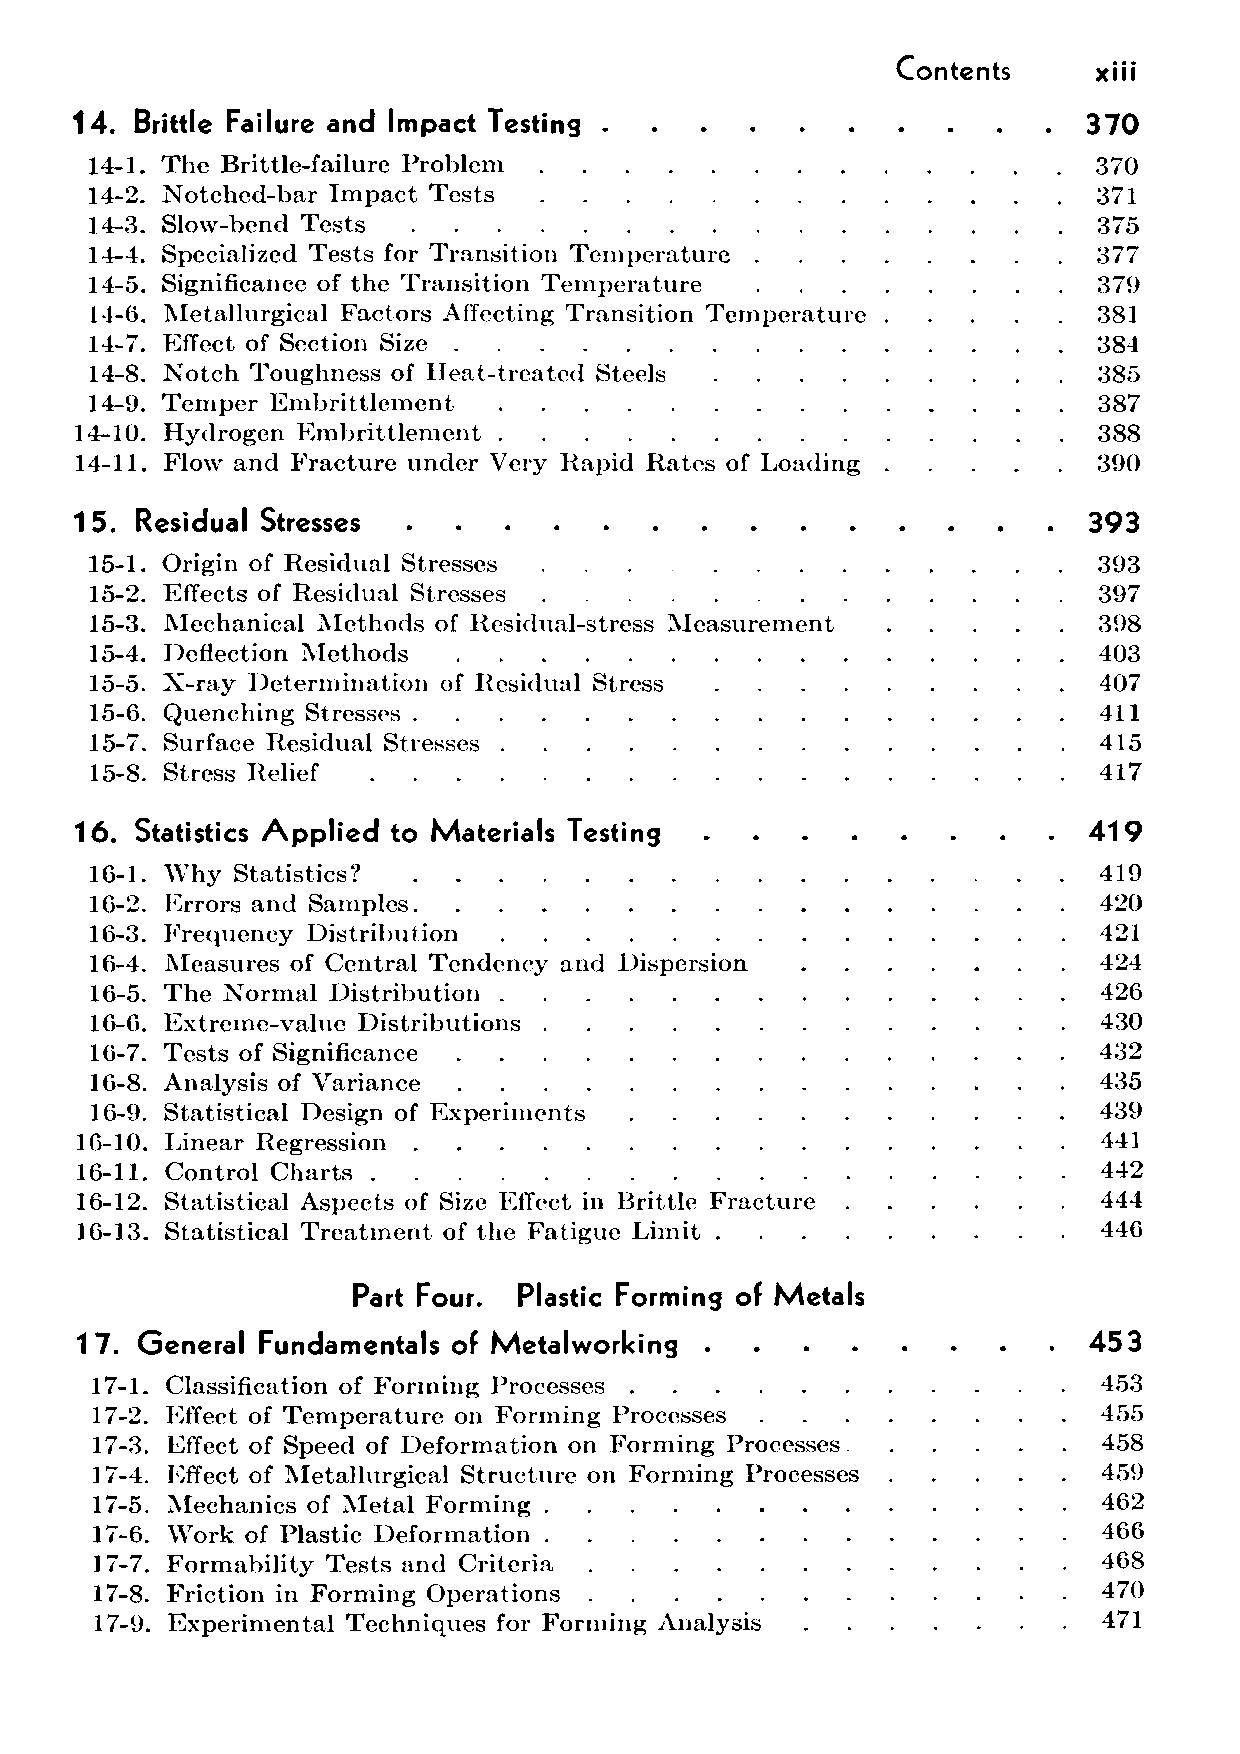TOC_chapter: (70, 450, 862, 480), (64, 97, 592, 140), (72, 1326, 680, 1362), (91, 1461, 862, 1490), (82, 301, 871, 327), (70, 815, 664, 849), (82, 268, 709, 301), (86, 949, 752, 977), (341, 1279, 872, 1314), (85, 609, 840, 633), (91, 1610, 762, 1637), (85, 360, 670, 389), (90, 1435, 841, 1457), (72, 1219, 701, 1245), (91, 1401, 731, 1427), (75, 1189, 821, 1210), (81, 242, 735, 264), (85, 671, 670, 697), (90, 1373, 613, 1398), (93, 1491, 535, 1520), (75, 148, 509, 177), (86, 1100, 588, 1126), (83, 573, 509, 603), (89, 1551, 557, 1577), (90, 1581, 560, 1605), (85, 729, 484, 756), (91, 1523, 535, 1547), (85, 548, 501, 573), (89, 1011, 523, 1035), (70, 503, 369, 538), (85, 183, 498, 207), (72, 420, 484, 444), (86, 981, 480, 1005), (86, 637, 412, 666), (85, 389, 460, 413), (86, 921, 462, 943), (89, 1040, 421, 1066), (86, 331, 431, 356), (85, 890, 411, 915), (81, 209, 372, 238), (85, 699, 405, 725), (72, 1130, 392, 1155), (89, 1070, 424, 1094), (85, 858, 365, 884), (72, 1161, 361, 1185), (89, 760, 325, 784)
TOC_pagenumber: (1078, 1323, 1146, 1355), (1084, 103, 1139, 136), (1088, 813, 1145, 844), (1084, 506, 1139, 537), (1096, 1368, 1147, 1396), (1095, 239, 1143, 268), (1098, 1457, 1147, 1486), (1091, 389, 1139, 417), (1094, 450, 1143, 476), (1096, 1154, 1147, 1180), (1100, 884, 1143, 914), (1092, 611, 1142, 636), (1095, 947, 1145, 973), (1096, 578, 1141, 607), (1091, 181, 1139, 207), (1095, 731, 1146, 756), (1100, 1398, 1150, 1423), (1098, 637, 1142, 664), (1096, 1096, 1145, 1121), (1095, 1127, 1143, 1151), (1096, 1577, 1145, 1601), (1096, 1216, 1147, 1239), (1100, 1428, 1147, 1452), (1100, 1518, 1147, 1542), (1087, 152, 1137, 174), (1096, 1188, 1146, 1210), (1096, 361, 1141, 386), (1096, 549, 1141, 574), (1096, 858, 1141, 883), (1100, 1546, 1145, 1571), (1094, 272, 1139, 297), (1094, 333, 1142, 356), (1100, 1067, 1143, 1092), (1096, 701, 1143, 723), (1096, 761, 1143, 784), (1096, 1039, 1143, 1062), (1096, 420, 1141, 444), (1098, 918, 1142, 942), (1098, 1007, 1142, 1031), (1096, 301, 1138, 326), (1095, 213, 1141, 236), (1100, 978, 1143, 1002), (1098, 1490, 1146, 1511), (1102, 1606, 1143, 1631), (1100, 671, 1143, 694)
